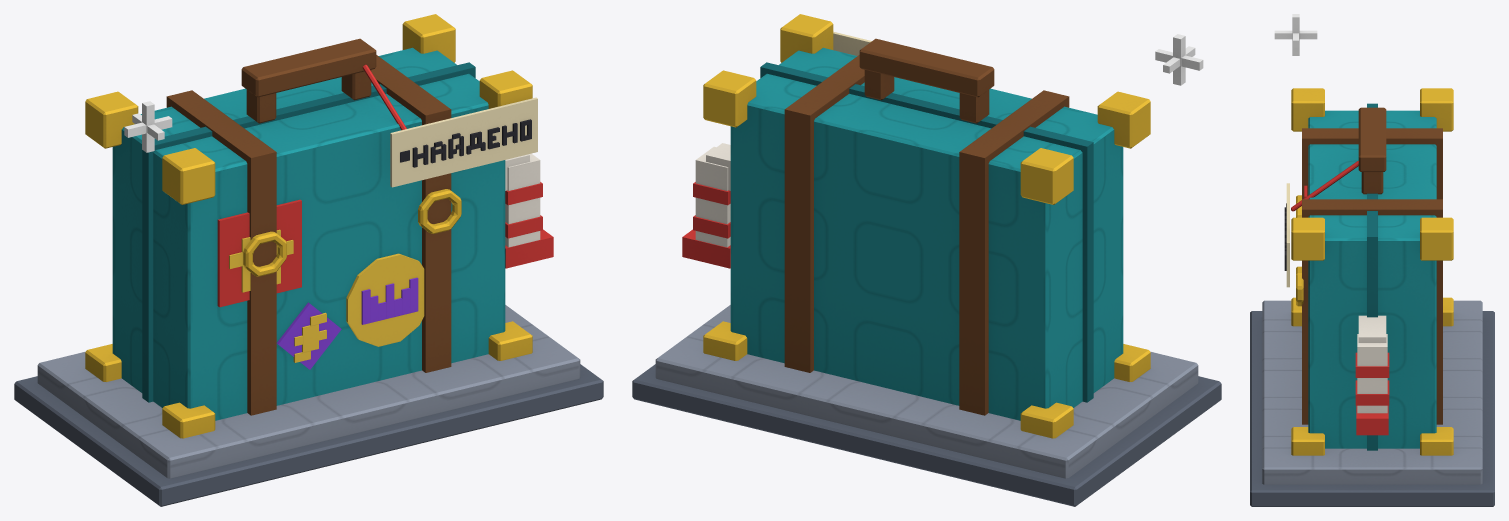
File: LostSuitcase.fbx
The picture shows the model from 3 angles, left to right: view 1: azimuth 30°, elevation 25°; view 2: azimuth 150°, elevation 25°; view 3: azimuth 270°, elevation 25°; orthographic projection. The views are drawn at different scales.
Visible parts, largest first — view 1: Art_LostSuitcase; view 2: Art_LostSuitcase; view 3: Art_LostSuitcase.
Boxes of the visible parts, x1,y1,x2,y2 form: Art_LostSuitcase: (14, 14, 603, 506); Art_LostSuitcase: (632, 14, 1221, 506); Art_LostSuitcase: (1250, 14, 1494, 506).
Size of the model in its own units: 2.92 by 2.29 by 1.6.
